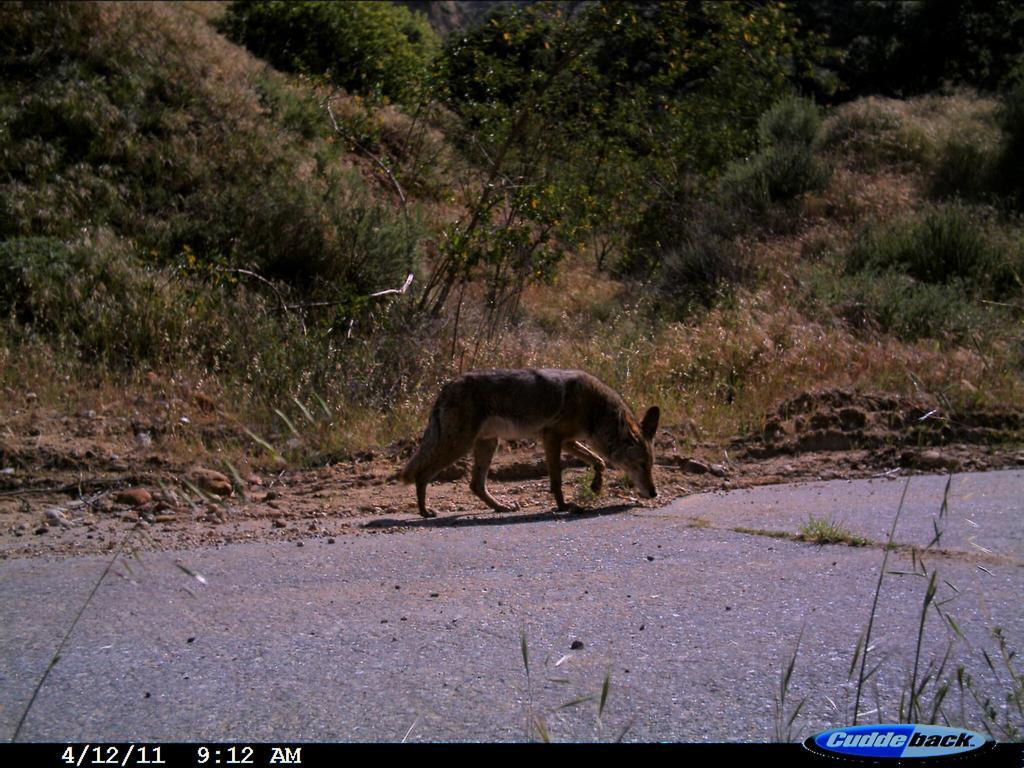coyote: (396, 367, 684, 536)
